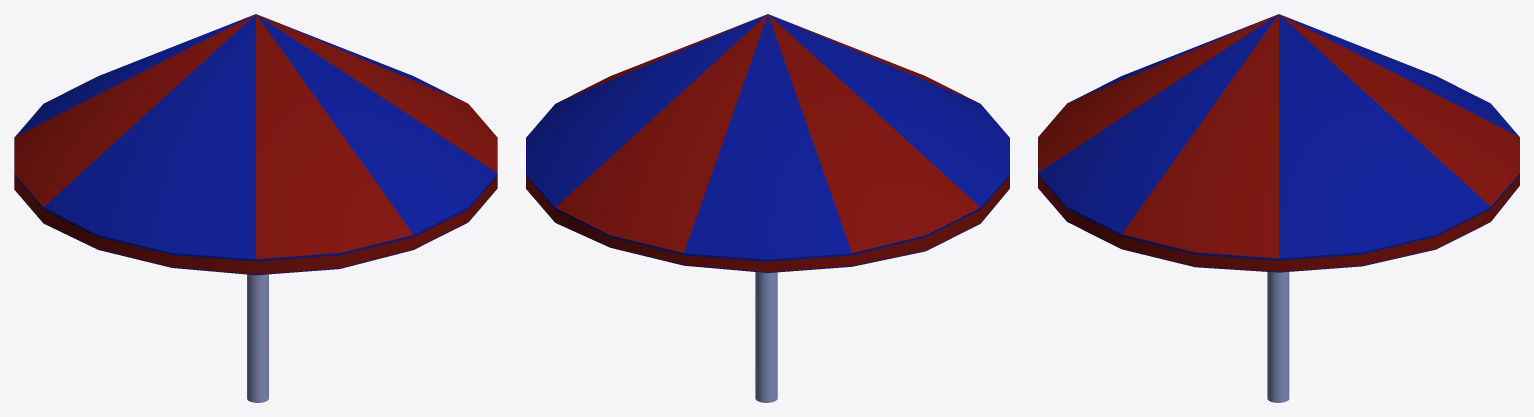
Rendered from Guarda sol.FBX.
3 views of the same model, side by side, from view 1: azimuth 30°, elevation 25°; view 2: azimuth 150°, elevation 25°; view 3: azimuth 270°, elevation 25° (orthographic).
Parts seen in each view (by area): view 1: Cylinder001; view 2: Cylinder001; view 3: Cylinder001.
Boxes of the visible parts, x1,y1,x2,y2 form: Cylinder001: [14, 14, 497, 402]; Cylinder001: [526, 14, 1009, 402]; Cylinder001: [1038, 14, 1519, 402].
Size of the model in its own units: 56.94 by 49.22 by 56.07.
